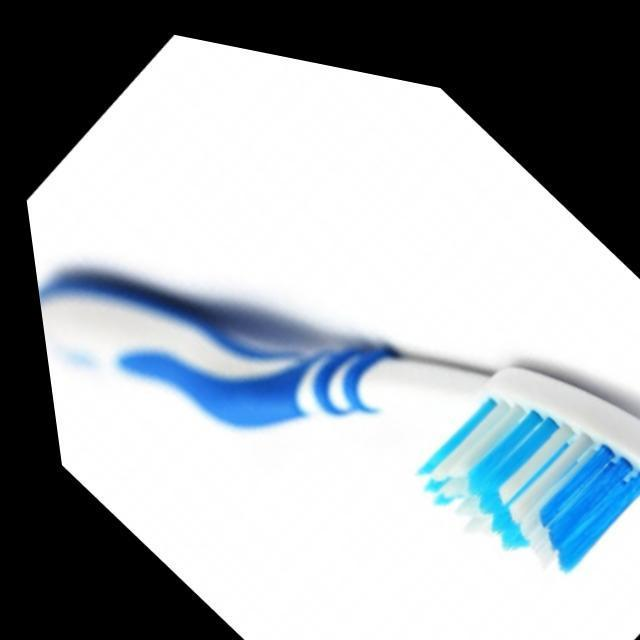toothbrush: (31, 276, 640, 548)
